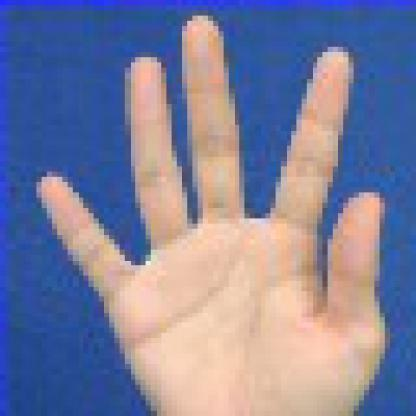five: (26, 5, 411, 411)
